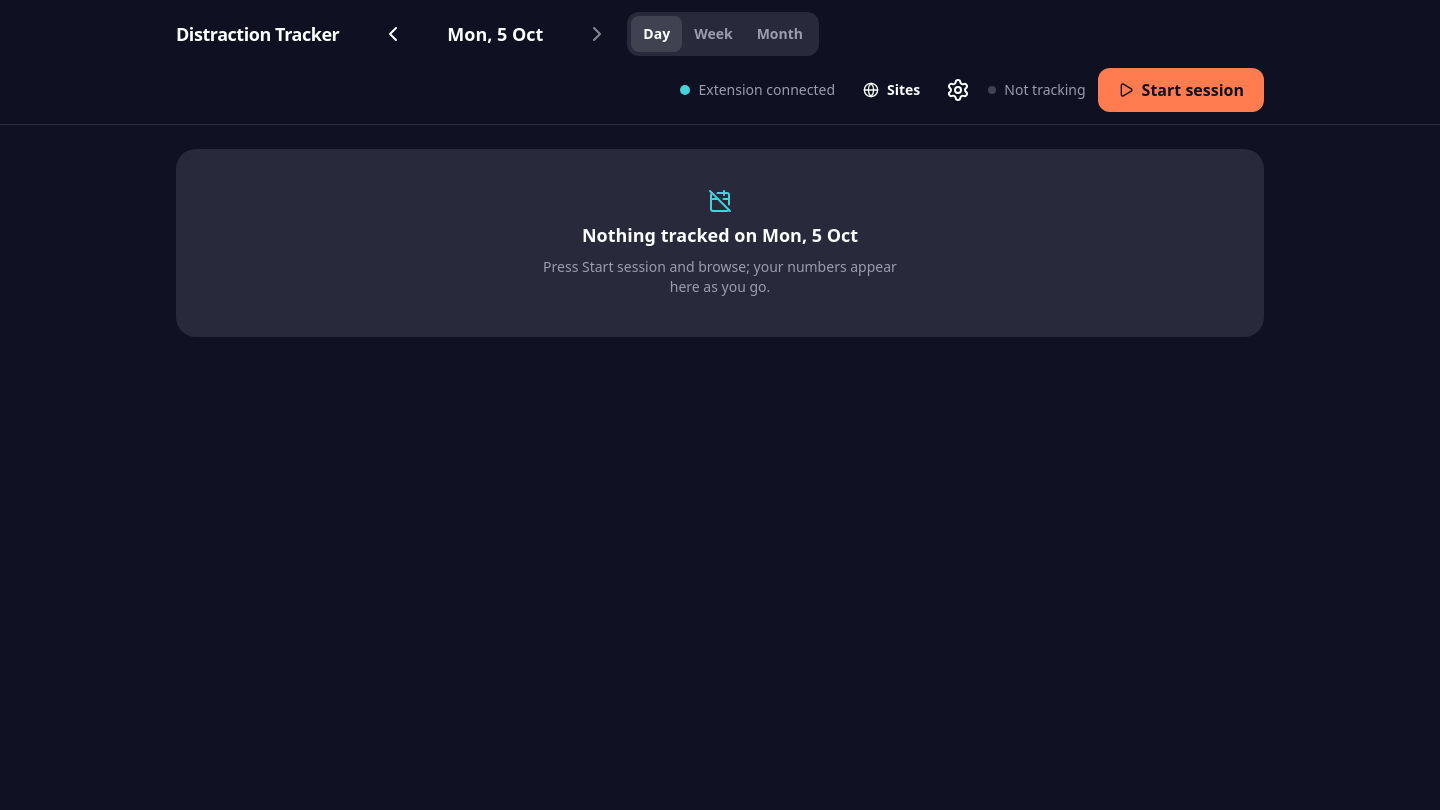
Test case: panels › opens the Sites panel as a dialog and closes it with Escape, returning focus to the button
Click the button "Sites". click: coordinates (892, 90)
box: [851,72,932,108]
(page scrolled)
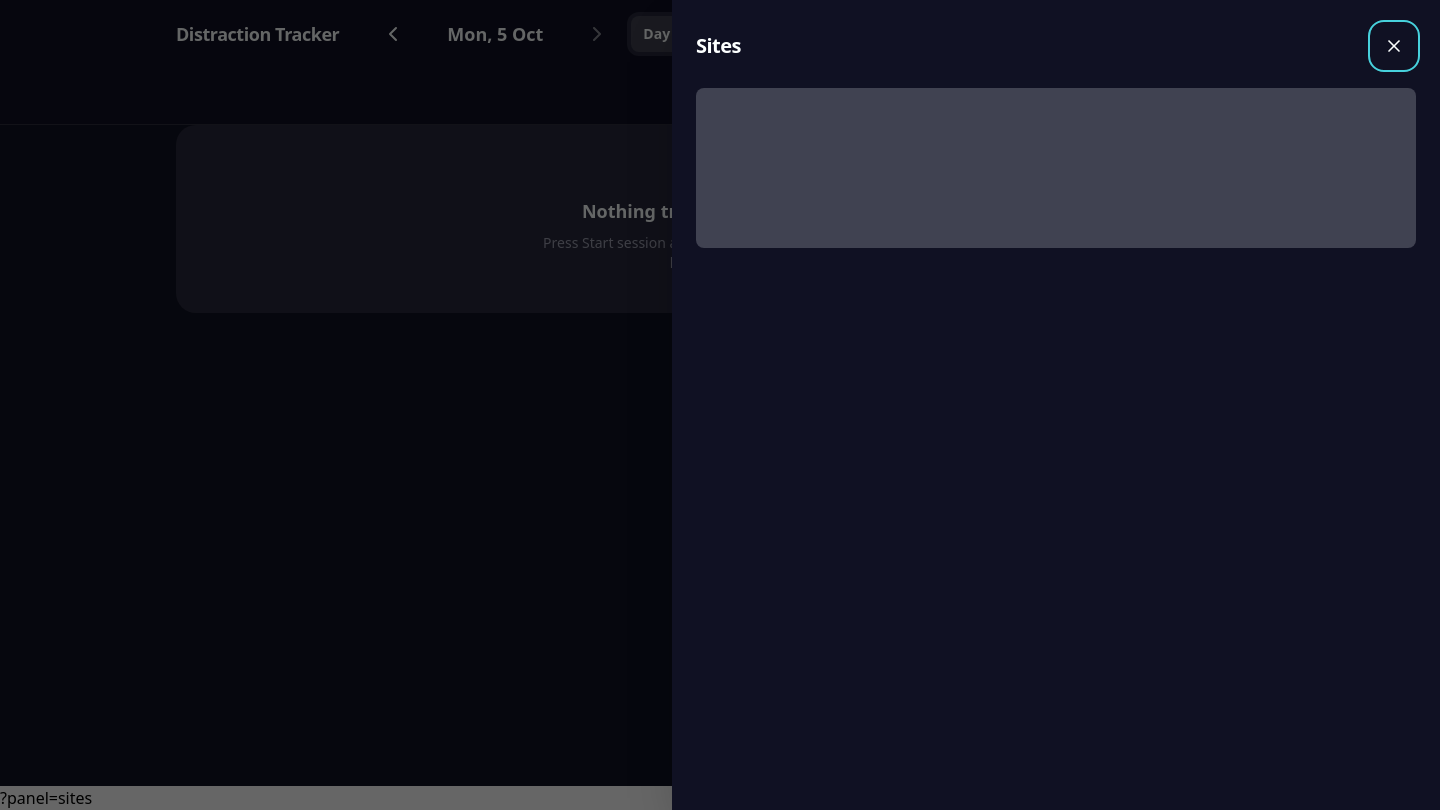
Check: the dialog "Sites" is shown, box [672,0,1439,809]
Check: the text with test id "search" reads "?panel=sites", box [0,787,92,809]
Press Escape
(page scrolled)
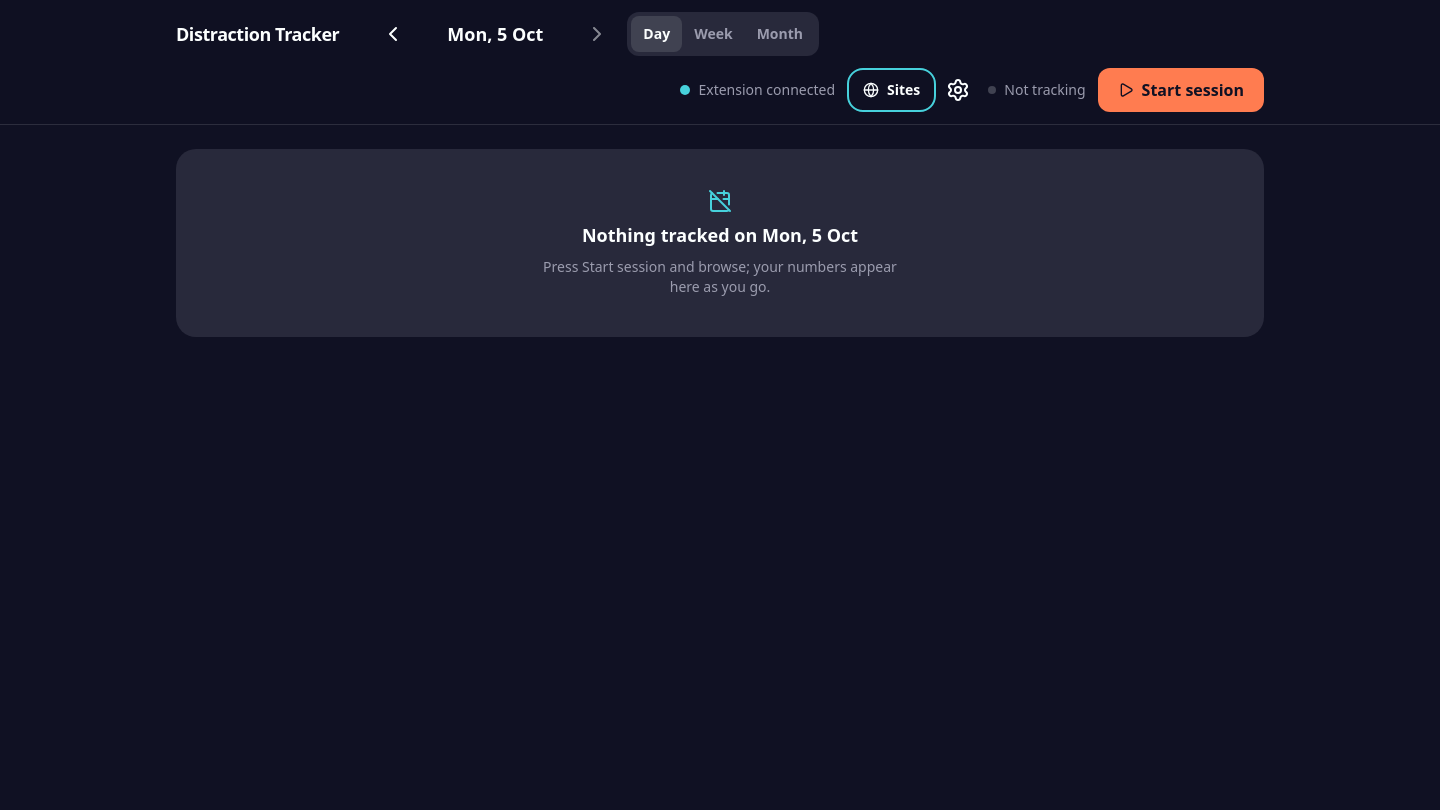
Check: the dialog is gone
